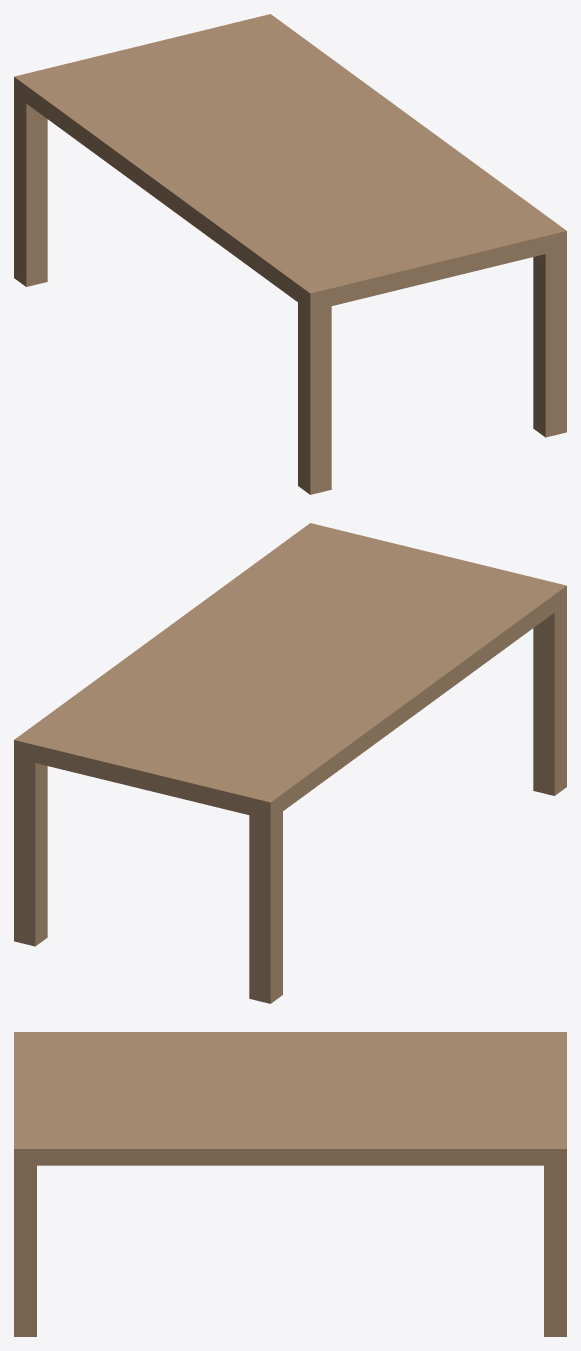
Rendered from coffee-table-1200.glb.
3 renders of one model, top to bottom at view 1: azimuth 30°, elevation 25°; view 2: azimuth 150°, elevation 25°; view 3: azimuth 270°, elevation 25°, orthographic. The views are drawn at different scales.
Visible parts, largest first — view 1: coffee-table-1200; view 2: coffee-table-1200; view 3: coffee-table-1200.
Part boxes in pixels (x1=…): coffee-table-1200: x1=14, y1=14, x2=566, y2=494; coffee-table-1200: x1=14, y1=523, x2=566, y2=1003; coffee-table-1200: x1=14, y1=1032, x2=566, y2=1336.
Bounding box in the file's own units: 0.6 × 0.45 × 1.2.
